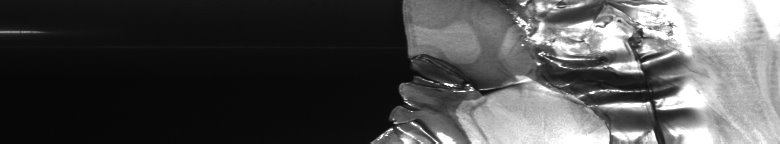ke: (376, 4, 695, 136)
